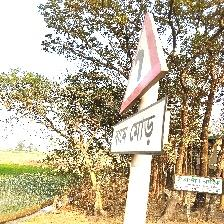Left-Turn: (110, 9, 170, 156)
